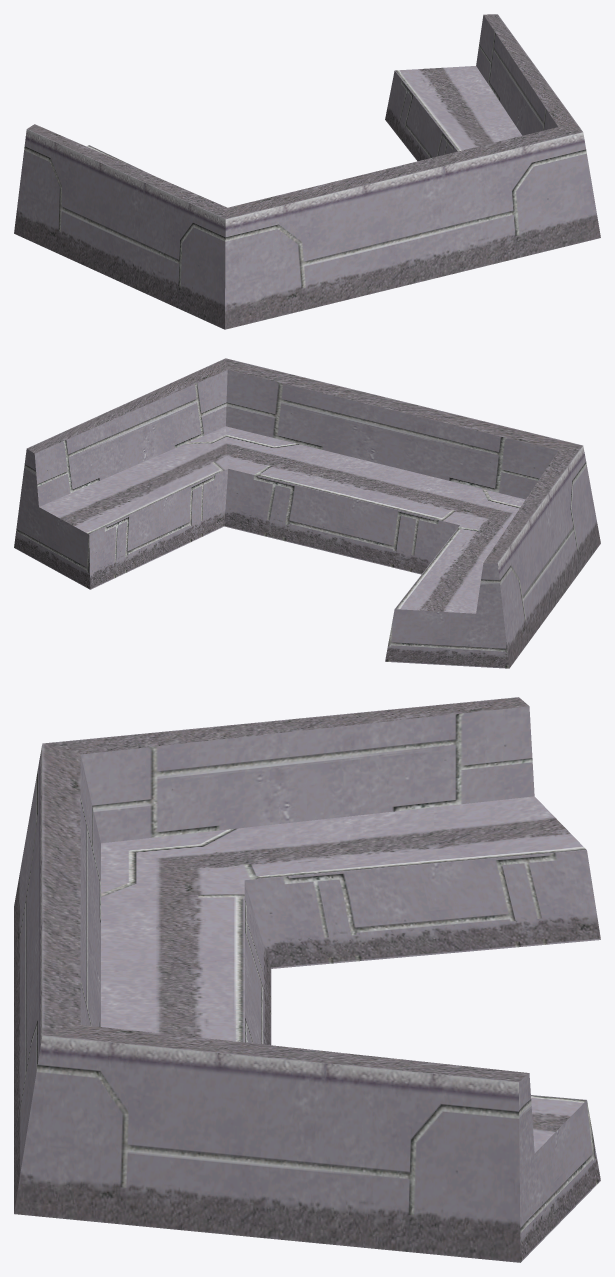
File: bes2_bldg_courtyard_bench.glb
3 renders of one model, top to bottom at view 1: azimuth 30°, elevation 25°; view 2: azimuth 150°, elevation 25°; view 3: azimuth 270°, elevation 25°, orthographic. The views are drawn at different scales.
Visible parts, largest first — view 1: mesh_part1; view 2: mesh_part1; view 3: mesh_part1.
Part boxes in pixels (box(x1,y1,x2,y2)): mesh_part1: box(14, 14, 600, 329); mesh_part1: box(14, 358, 600, 668); mesh_part1: box(14, 697, 600, 1262).
Bounding box in the file's own units: 5.09 × 1 × 3.12.
1 material, 1 textured.
